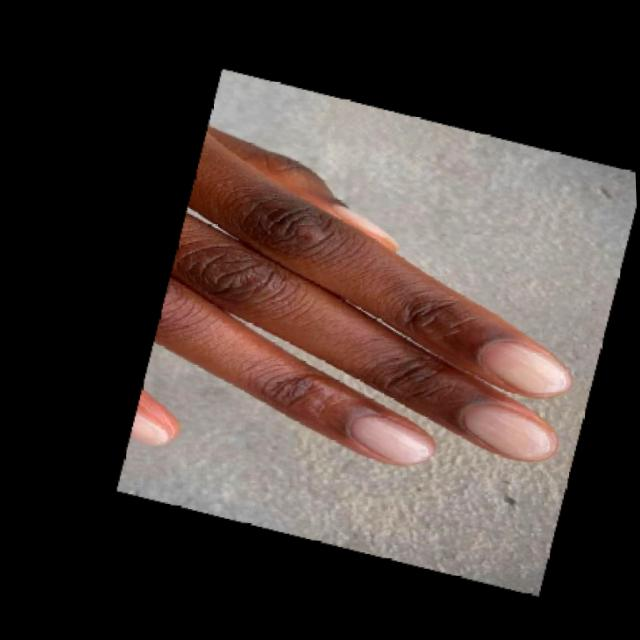Nail: (463, 403, 553, 460), (482, 340, 565, 396), (351, 416, 432, 462), (333, 202, 395, 249), (131, 414, 171, 445)
